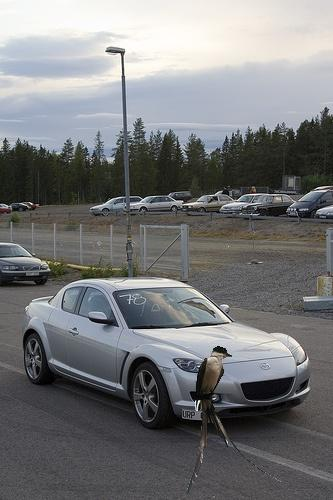tampered: (188, 247, 285, 494)
